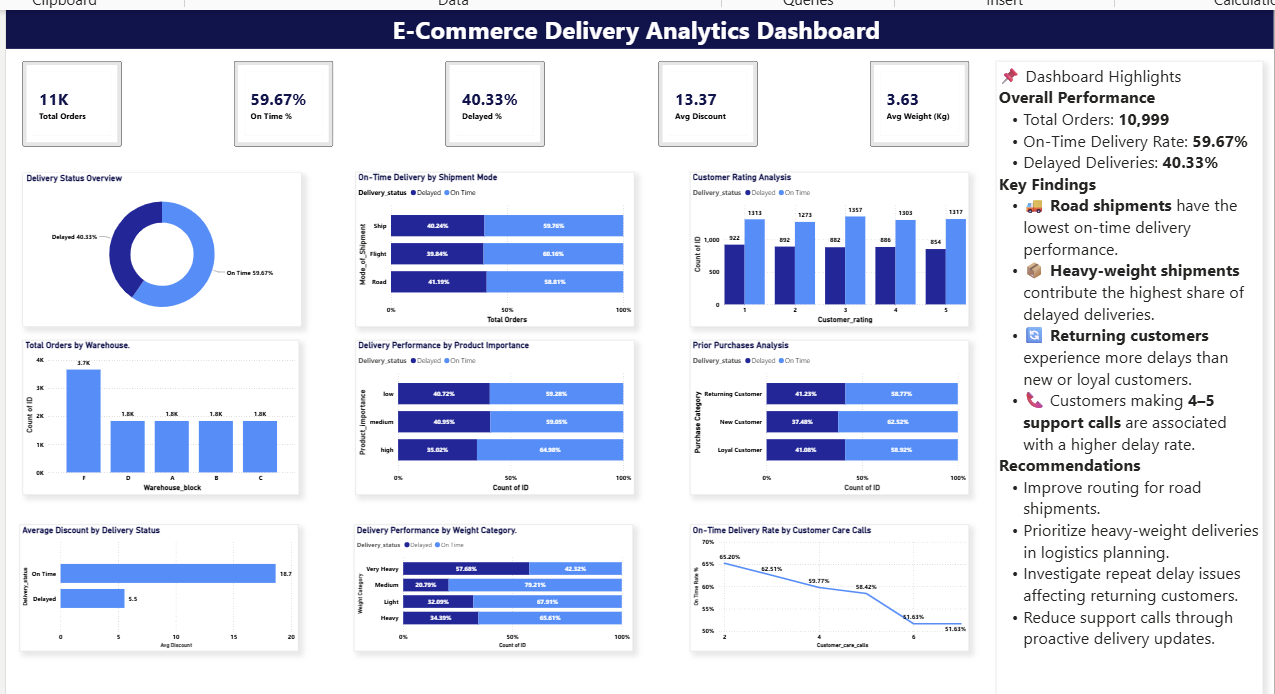

The dashboard page shown, as its layout file describes it:
{"tool":"powerbi","page":{"name":"Dashboard","canvas":[2500,1400],"ordinal":0},"visuals":[{"type":"cardVisual","fields":{"Data":["ECommerce capston project.Total Orders"]},"box":[32.5,100.6,195.2,168.6],"z":0},{"type":"cardVisual","fields":{"Data":["ECommerce capston project.On Time %"]},"box":[450.3,100.6,195.2,168.6],"z":1000},{"type":"cardVisual","fields":{"Data":["ECommerce capston project.Delayed %"]},"box":[868,100.6,195.2,168.6],"z":2000},{"type":"cardVisual","fields":{"Data":["ECommerce capston project.Avg Discount"]},"box":[1285.7,100.6,195.2,168.6],"z":3000},{"type":"cardVisual","fields":{"Data":["ECommerce capston project.Avg Weight"]},"box":[1703.5,100.6,195.2,168.6],"z":4000},{"type":"donutChart","title":"Delivery Status Overview","fields":{"Category":["ECommerce capston project.Delivery_status"],"Y":["CountNonNull(ECommerce capston project.ID)"]},"box":[32.5,320,550,305],"z":5000},{"type":"hundredPercentStackedBarChart","title":"On-Time Delivery by Shipment Mode","fields":{"Series":["ECommerce capston project.Delivery_status"],"Y":["ECommerce capston project.Total Orders"],"Category":["ECommerce capston project.Mode_of_Shipment"]},"box":[690,320,550,305],"z":6000},{"type":"hundredPercentStackedBarChart","title":"Delivery Performance by Product Importance","fields":{"Category":["ECommerce capston project.Product_importance"],"Y":["CountNonNull(ECommerce capston project.ID)"],"Series":["ECommerce capston project.Delivery_status"]},"box":[690,650,550,305],"z":7000},{"type":"clusteredBarChart","title":"Average Discount by Delivery Status","fields":{"Y":["ECommerce capston project.Avg Discount"],"Category":["ECommerce capston project.Delivery_status"]},"box":[27.5,1015,550,250],"z":8000},{"type":"hundredPercentStackedBarChart","title":"Delivery Performance by Weight Category.","fields":{"Category":["ECommerce capston project.Weight Category"],"Y":["CountNonNull(ECommerce capston project.ID)"],"Series":["ECommerce capston project.Delivery_status"]},"box":[687.5,1015,550,250],"z":9000},{"type":"clusteredColumnChart","title":"Customer Rating Analysis","fields":{"Category":["ECommerce capston project.Customer_rating"],"Y":["CountNonNull(Fact_Orders.ID)"],"Series":["Fact_Orders.Delivery_status"]},"box":[1347.5,320,550,305],"z":10000},{"type":"lineChart","title":"On-Time Delivery Rate by Customer Care Calls","fields":{"Category":["ECommerce capston project.Customer_care_calls"],"Y":["ECommerce capston project.On Time Rate %"]},"box":[1347.5,1015,550,250],"z":11000},{"type":"hundredPercentStackedBarChart","title":"Prior Purchases Analysis","fields":{"Category":["ECommerce capston project.Purchase Category"],"Y":["CountNonNull(ECommerce capston project.ID)"],"Series":["ECommerce capston project.Delivery_status"]},"box":[1347.5,650,550,305],"z":12000},{"type":"clusteredColumnChart","title":"Total Orders by Warehouse.","fields":{"Y":["CountNonNull(Fact_Orders.ID)"],"Category":["Dim_Warehouse.Warehouse_block"]},"box":[32.5,650,545,305],"z":13000},{"type":"textbox","box":[0,0,2499,76.9],"z":14000},{"type":"textbox","box":[1951.9,100.6,526.4,1298.3],"z":15000}]}

Visuals, with their boxes on the page's 2500x1400 design canvas (x1, y1, x2, y2). These are canvas units, not pixel positions in the 1275x694 screenshot, which may show the page scaled, cropped or inside an application window:
cardVisual - ECommerce capston project.Total Orders: 32/101/228/269
cardVisual - ECommerce capston project.On Time %: 450/101/646/269
cardVisual - ECommerce capston project.Delayed %: 868/101/1063/269
cardVisual - ECommerce capston project.Avg Discount: 1286/101/1481/269
cardVisual - ECommerce capston project.Avg Weight: 1704/101/1899/269
"Delivery Status Overview" donutChart: 32/320/582/625
"On-Time Delivery by Shipment Mode" hundredPercentStackedBarChart: 690/320/1240/625
"Delivery Performance by Product Importance" hundredPercentStackedBarChart: 690/650/1240/955
"Average Discount by Delivery Status" clusteredBarChart: 28/1015/578/1265
"Delivery Performance by Weight Category." hundredPercentStackedBarChart: 688/1015/1238/1265
"Customer Rating Analysis" clusteredColumnChart: 1348/320/1898/625
"On-Time Delivery Rate by Customer Care Calls" lineChart: 1348/1015/1898/1265
"Prior Purchases Analysis" hundredPercentStackedBarChart: 1348/650/1898/955
"Total Orders by Warehouse." clusteredColumnChart: 32/650/578/955
textbox: 0/0/2499/77
textbox: 1952/101/2478/1399
